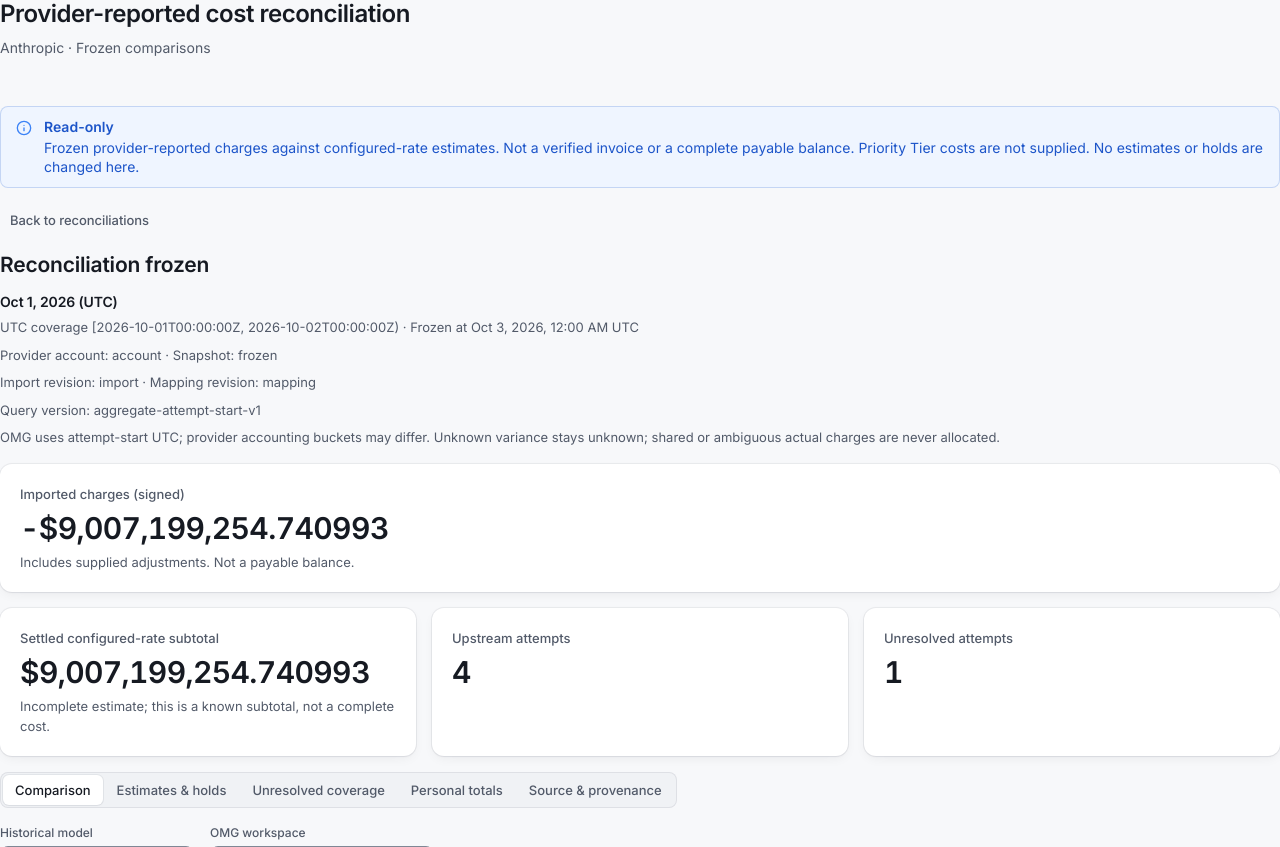
Test: provider-reported cost comparison › is read-only for admin, with honest signed amounts and null variance
Expected: the text "Read-only" is shown, 44,118 -> 114,135
Expected: the text "-$9,007,199,254.740993" is shown, 20,510 -> 388,546
Click the tab "Estimates & holds": x=172, y=790 105,776 -> 238,806
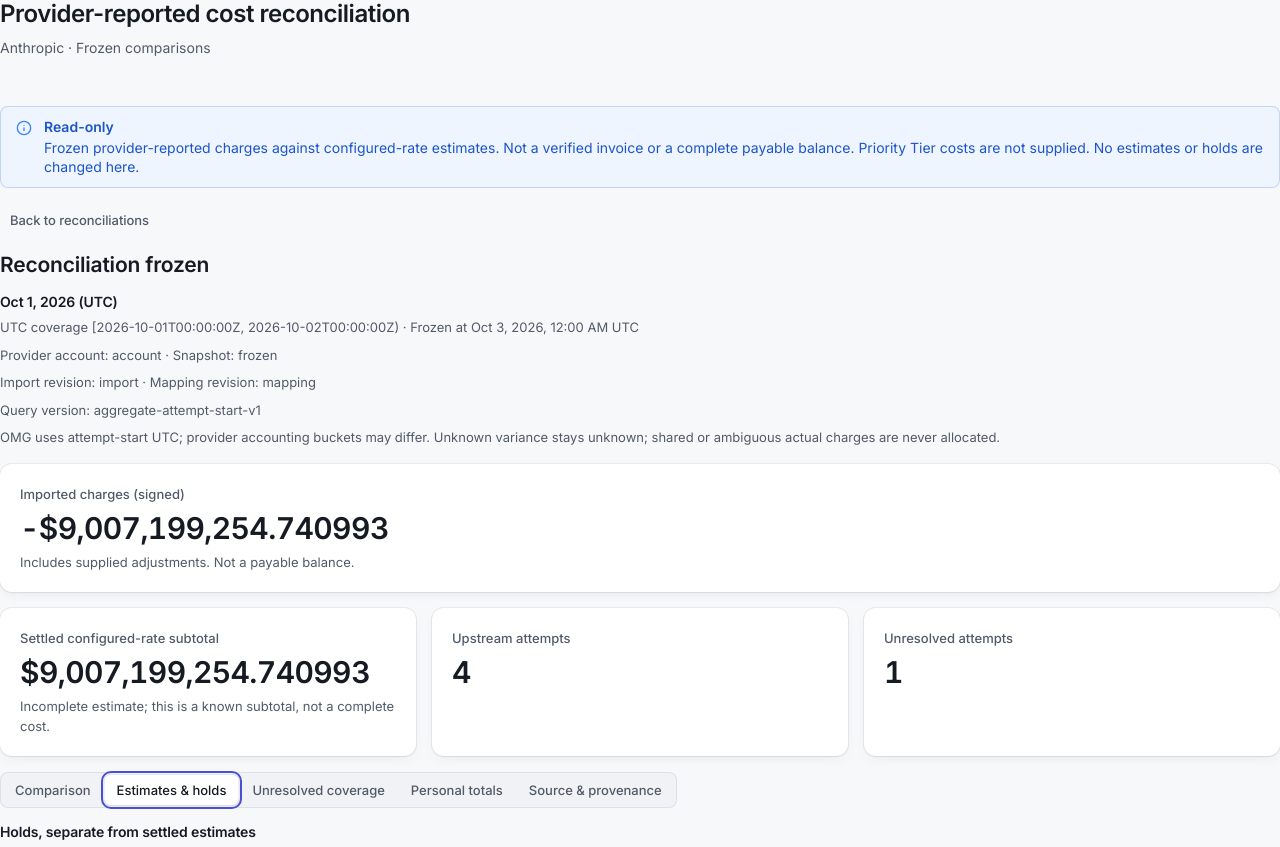
Click the tab "Unresolved coverage": x=319, y=790 240,776 -> 397,806
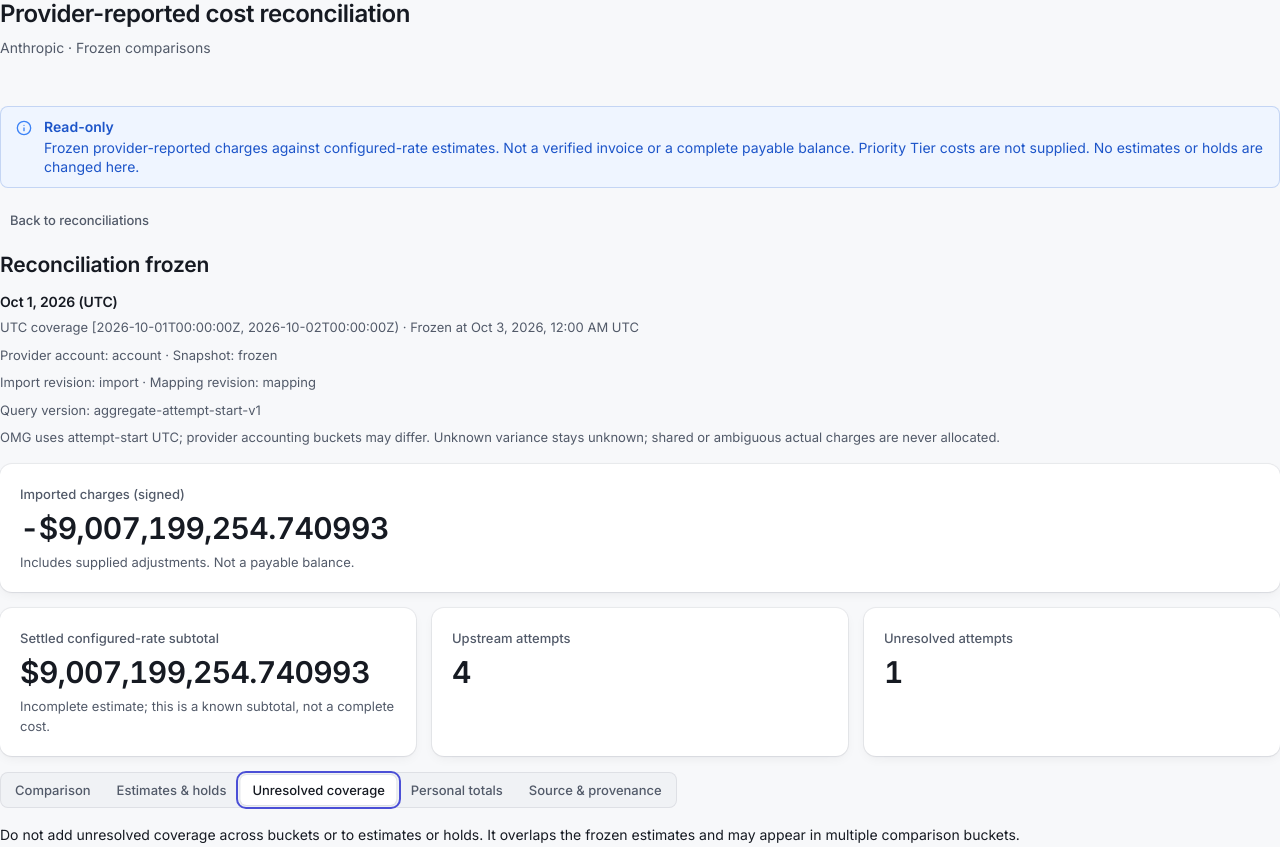
Expected: the text "Not a verified invoice" is shown, 44,139 -> 1263,175
Now the text "Do not add unresolved coverage" is shown, box 0,826 -> 1020,844
